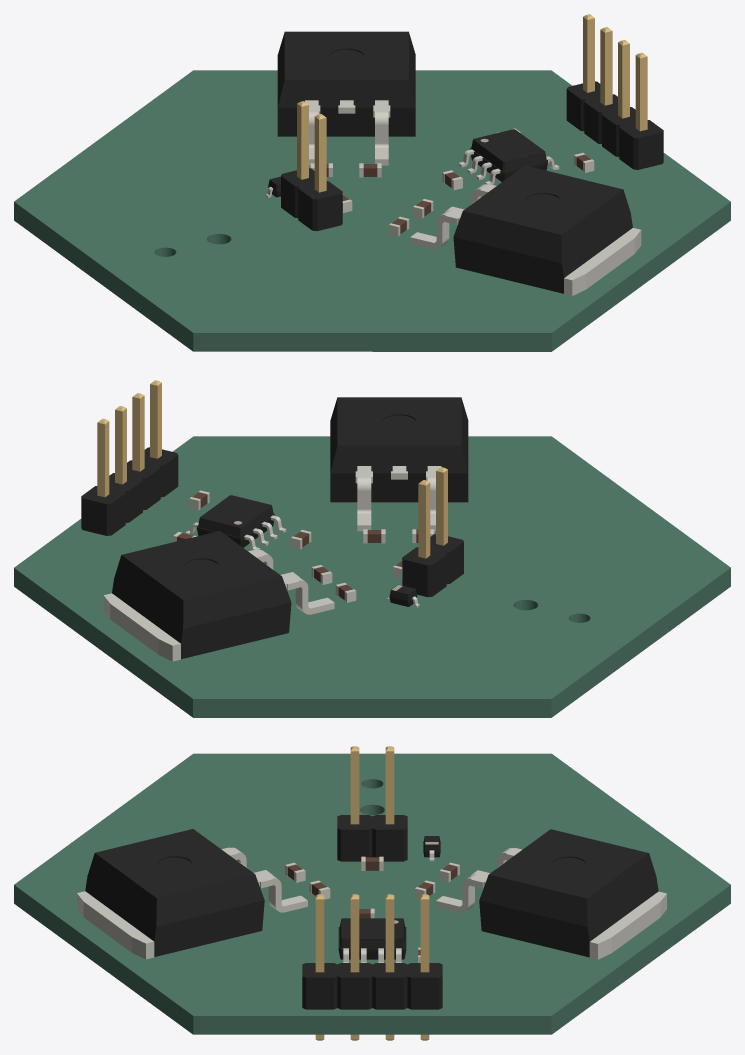
The model's file is dcdc.glb.
3 renders of one model, top to bottom at view 1: azimuth 30°, elevation 25°; view 2: azimuth 150°, elevation 25°; view 3: azimuth 270°, elevation 25°, orthographic.
Parts seen in each view (by area): view 1: =>[0:1:1:21], =>[0:1:1:13] (×2), =>[0:1:1:7], =>[0:1:1:5], =>[0:1:1:11]; view 2: =>[0:1:1:21], =>[0:1:1:13] (×2), =>[0:1:1:7], =>[0:1:1:5], =>[0:1:1:11]; view 3: =>[0:1:1:21], =>[0:1:1:13] (×2), =>[0:1:1:7], =>[0:1:1:5], =>[0:1:1:11].
Boxes of the visible parts, box(x1,y1,x2,y2) form: =>[0:1:1:21]: box(14, 70, 730, 351); =>[0:1:1:13] (×2): box(277, 31, 641, 295); =>[0:1:1:7]: box(566, 14, 663, 169); =>[0:1:1:5]: box(281, 101, 342, 231); =>[0:1:1:11]: box(458, 129, 559, 184); =>[0:1:1:21]: box(14, 436, 730, 717); =>[0:1:1:13] (×2): box(103, 397, 468, 661); =>[0:1:1:7]: box(81, 380, 178, 535); =>[0:1:1:5]: box(402, 467, 463, 597); =>[0:1:1:11]: box(185, 495, 286, 550); =>[0:1:1:21]: box(14, 753, 730, 1034); =>[0:1:1:13] (×2): box(77, 829, 666, 959); =>[0:1:1:7]: box(302, 894, 442, 1040); =>[0:1:1:5]: box(337, 746, 407, 861); =>[0:1:1:11]: box(338, 918, 406, 962).
Size of the model in its own units: 0.045 by 0.0115 by 0.052.
